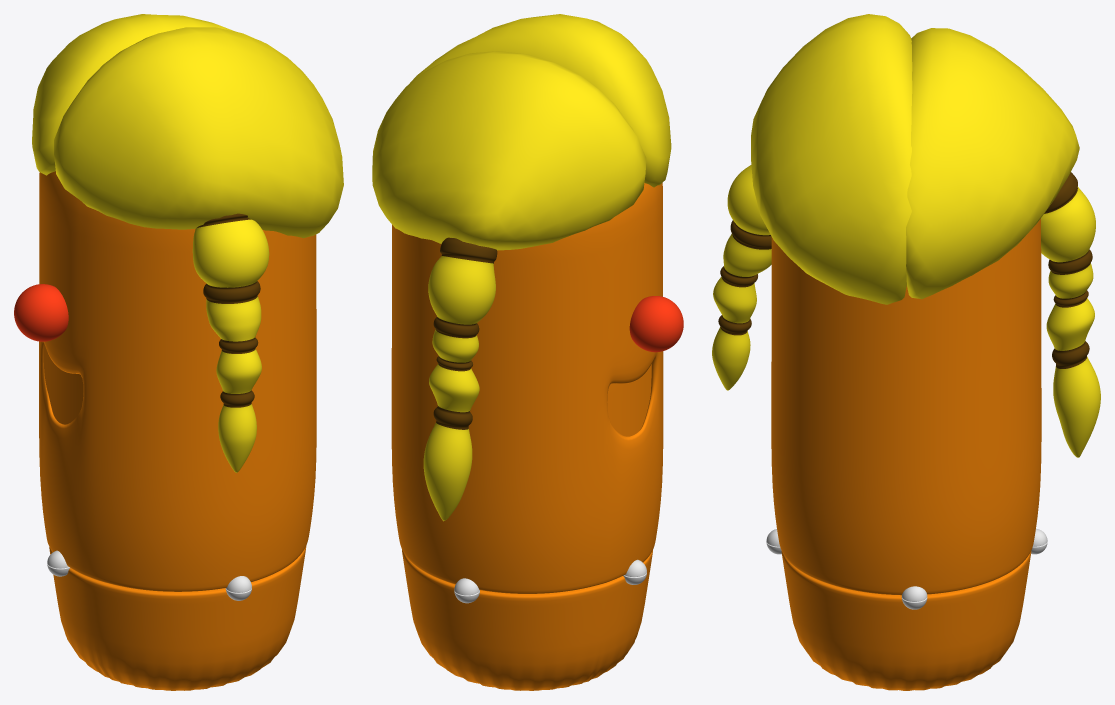
File: 10points.gltf
3 views of the same model, side by side, from view 1: azimuth 30°, elevation 25°; view 2: azimuth 150°, elevation 25°; view 3: azimuth 270°, elevation 25° (orthographic). The views are drawn at different scales.
Visible parts, largest first — view 1: Circle_001; view 2: Circle_001; view 3: Circle_001.
Part boxes in pixels (box(x1,y1,x2,y2)): Circle_001: box(14, 14, 343, 690); Circle_001: box(372, 14, 683, 690); Circle_001: box(712, 14, 1100, 690).
Bounding box in the file's own units: 3.24 × 6.6 × 3.66.
